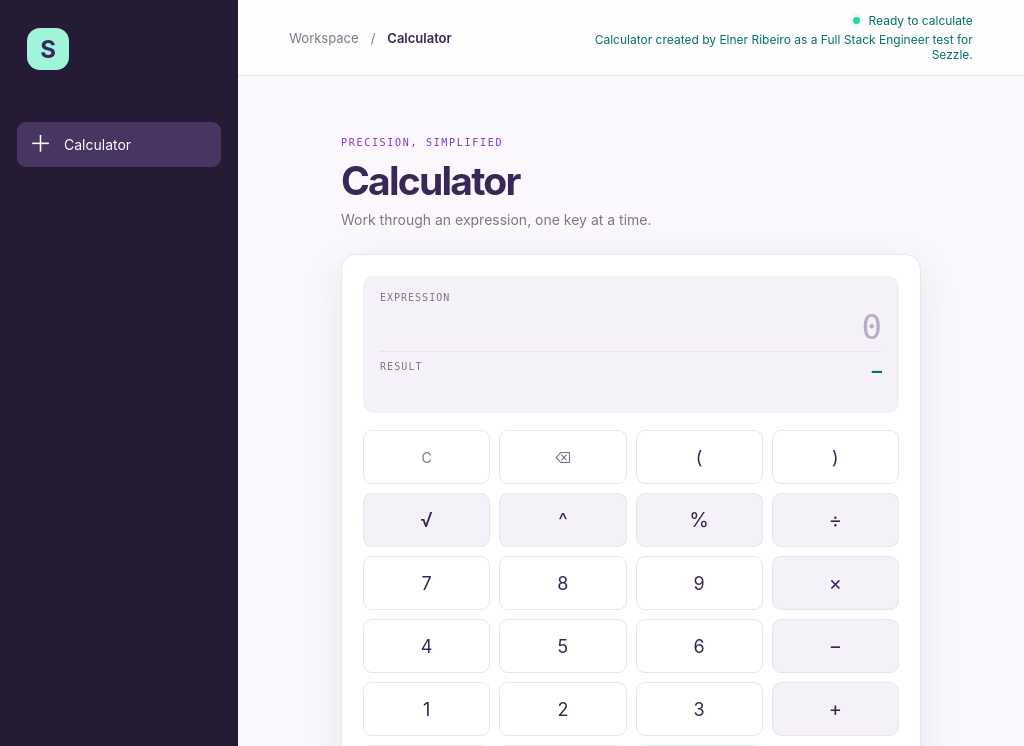
Test: calculator › deletes the last character and inserts square root syntax
This screenshot has width=1024, height=746.
Click the button "8": (563, 583) x1=499 y1=556 x2=627 y2=610
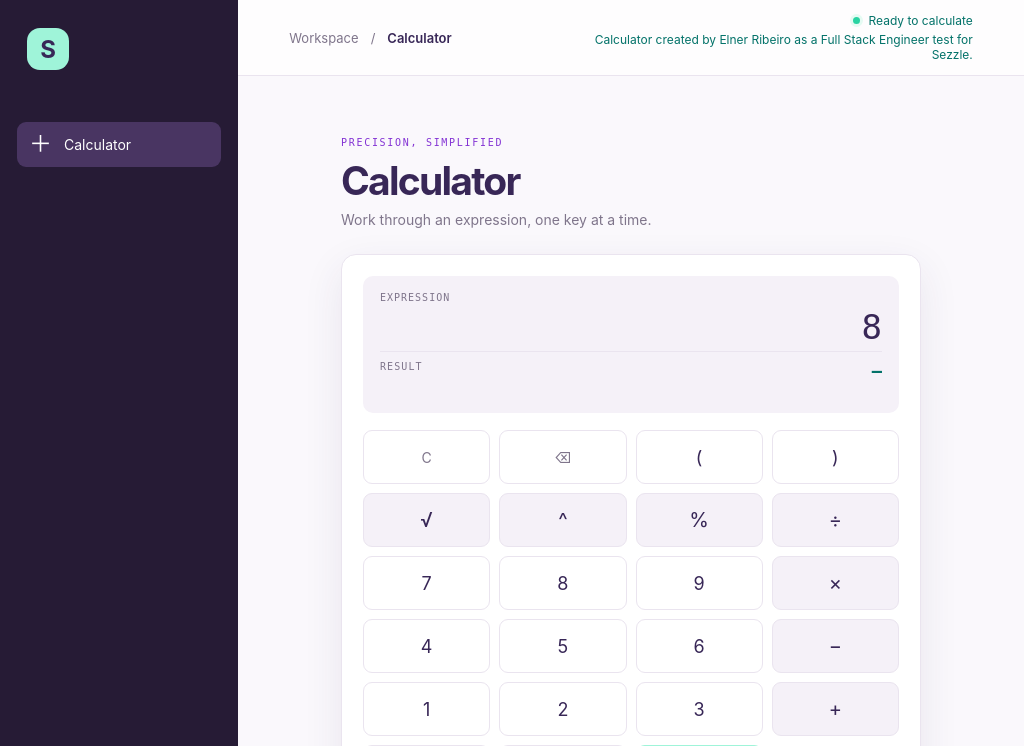
Click the button "⌫": (563, 457) x1=499 y1=430 x2=627 y2=484
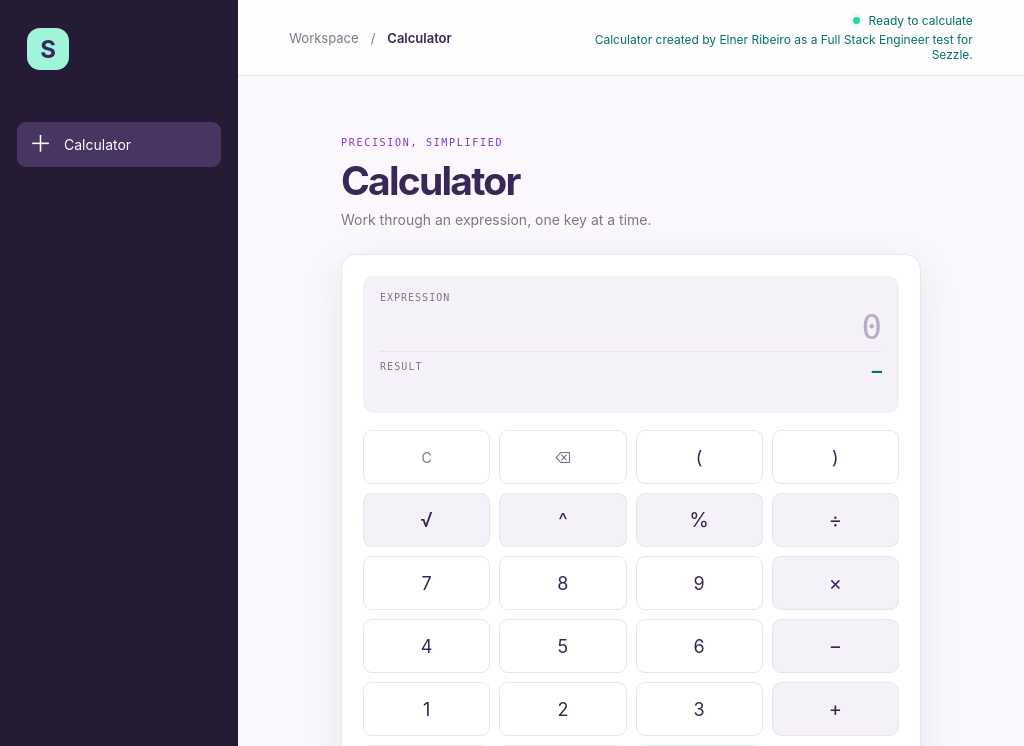
Click the button "√": (427, 520) x1=363 y1=493 x2=490 y2=547
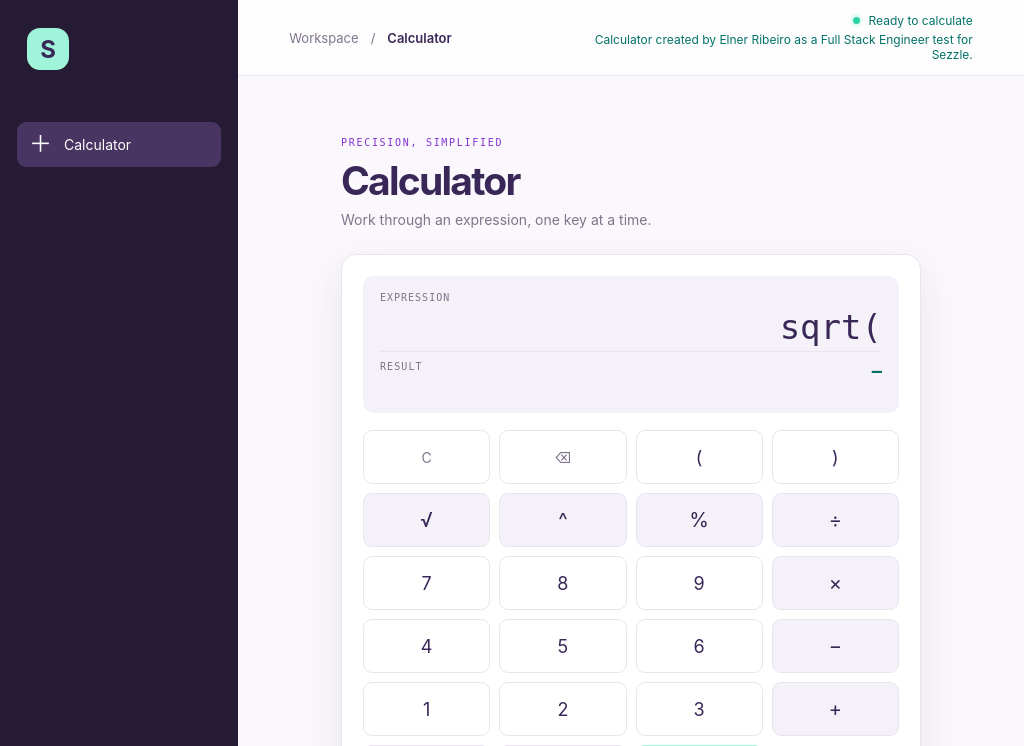
Click the button "9": (699, 583) x1=636 y1=556 x2=763 y2=610
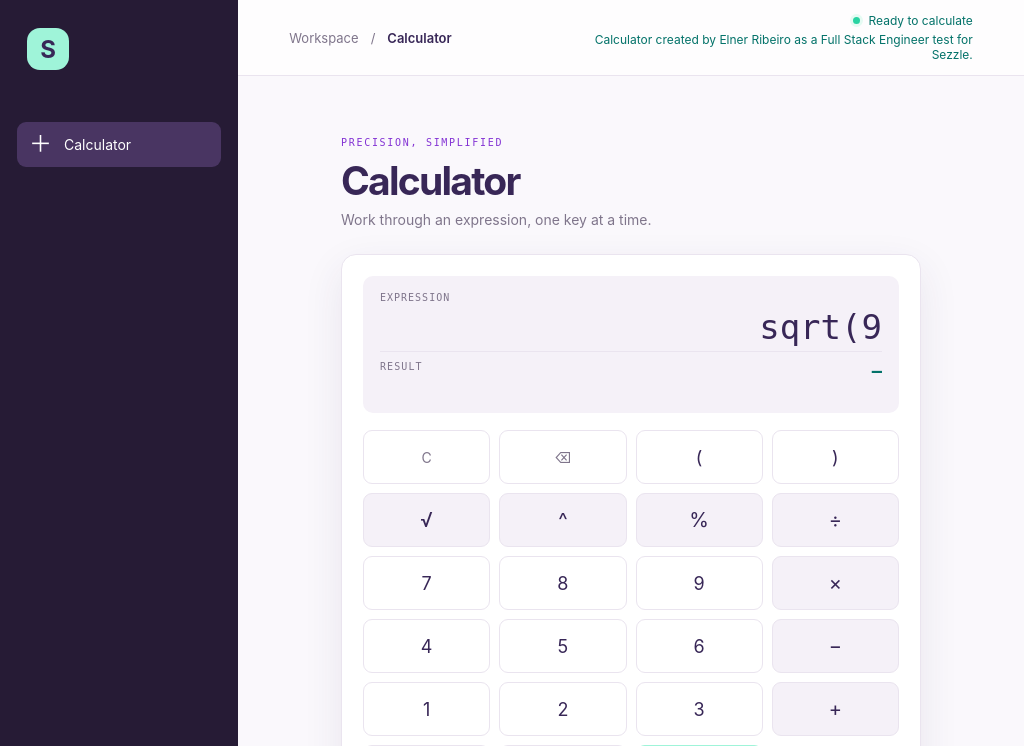
Click the button ")": (835, 457) x1=772 y1=430 x2=899 y2=484
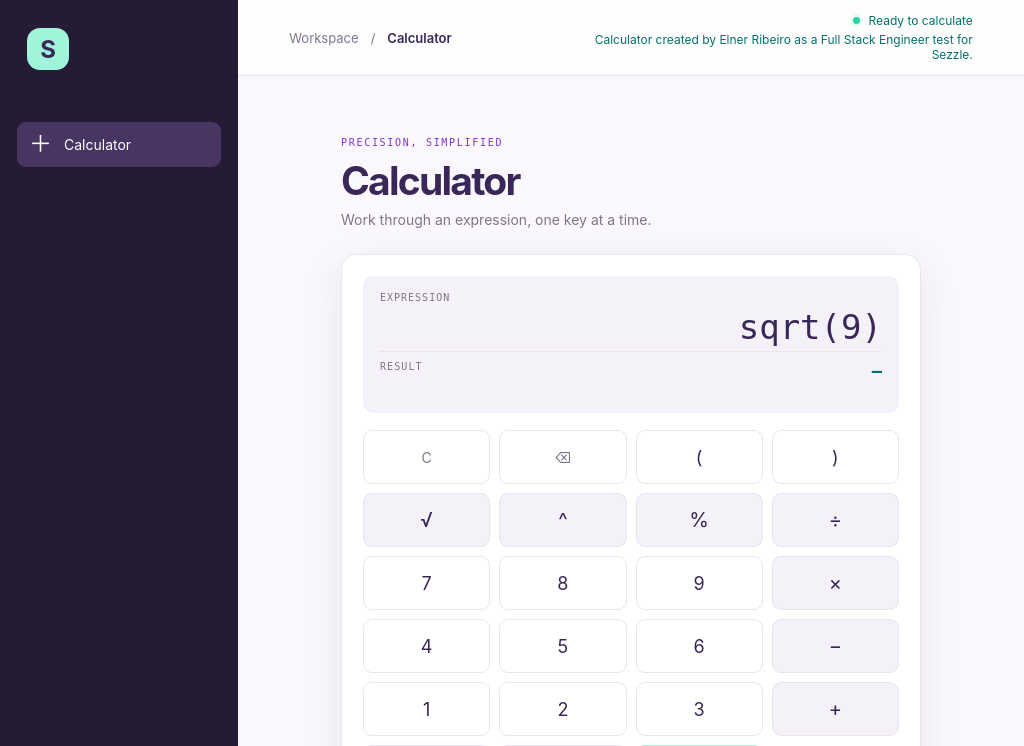
Now the field labelled "Expression" holds "sqrt(9)", box x1=380 y1=303 x2=882 y2=351
